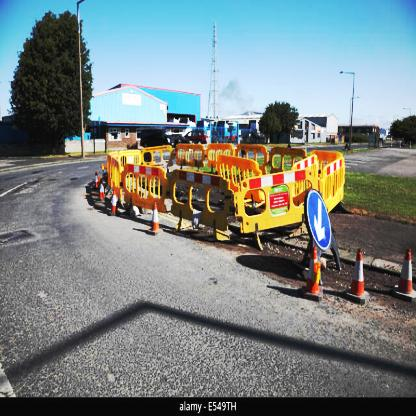Keep left: (302, 188, 333, 252)
